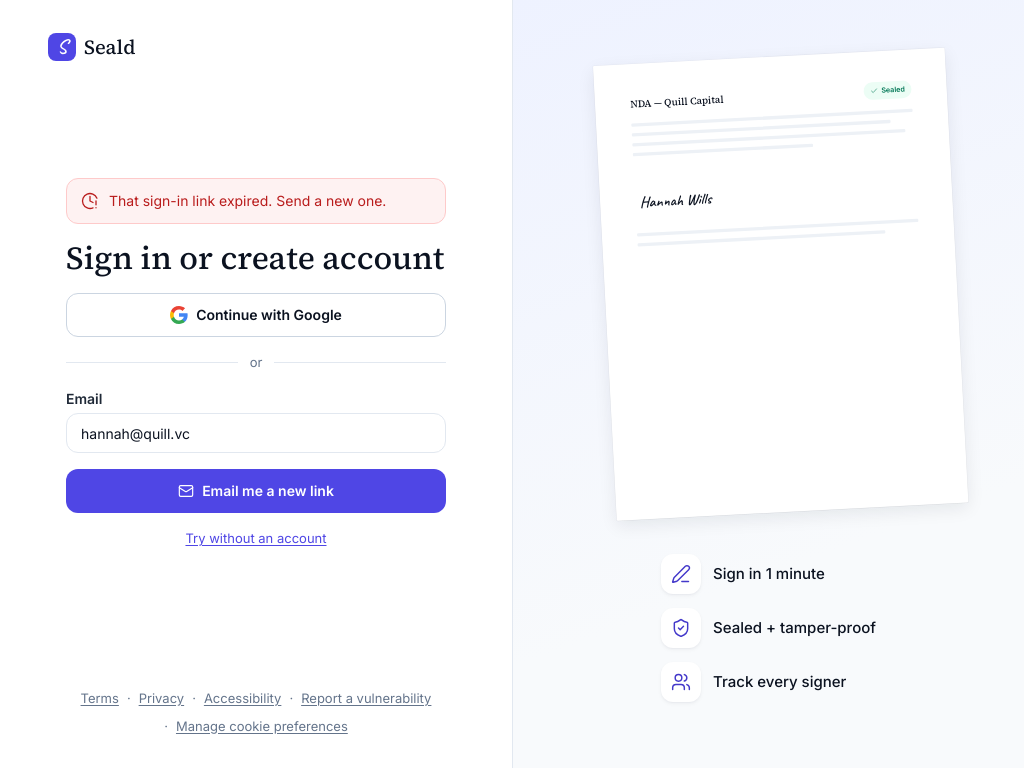
AuthPage › shows the expired-link banner and a "new link" button, cleared once a new link is sent
Expected: the message shows "That sign-in link expired", [109,192,386,209]
Click the button "Email me a new link".
click(256, 491)  # box [66,469,446,513]
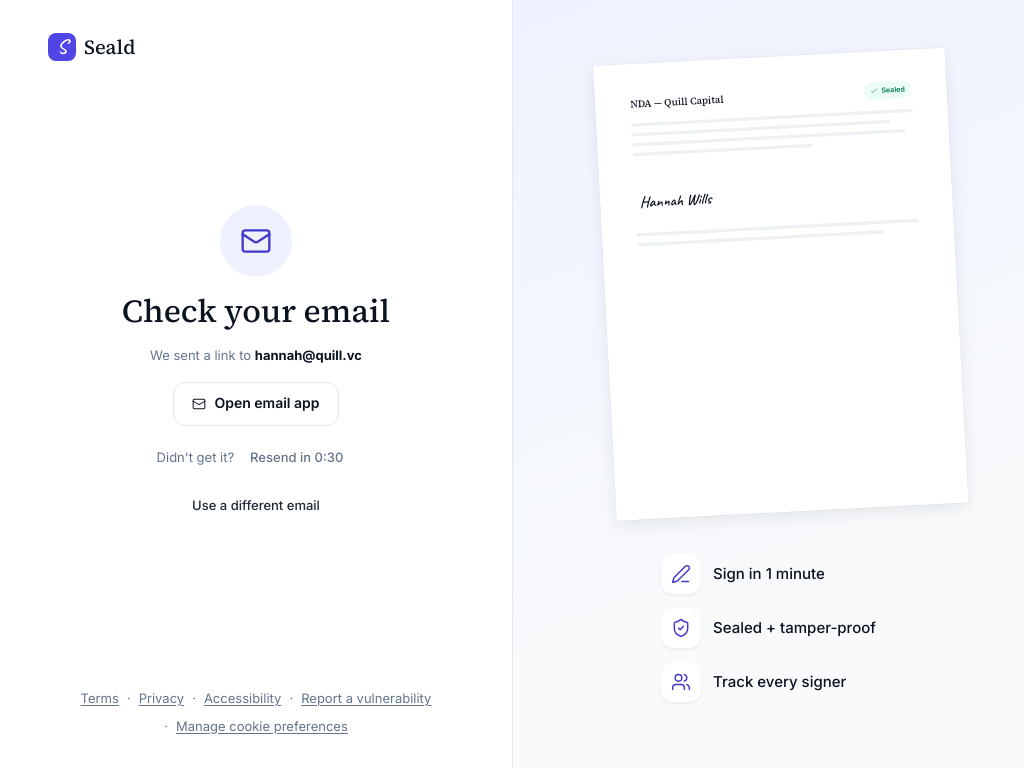
Result: the heading "Check your email" is shown at [122,293,390,330]
